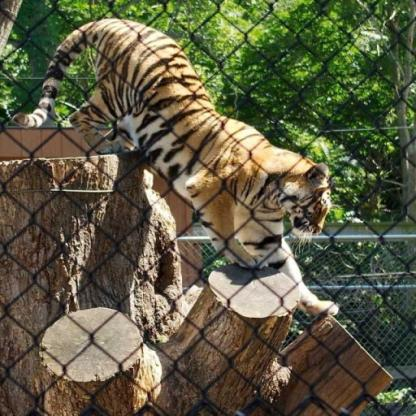Tiger: (33, 7, 336, 280)
